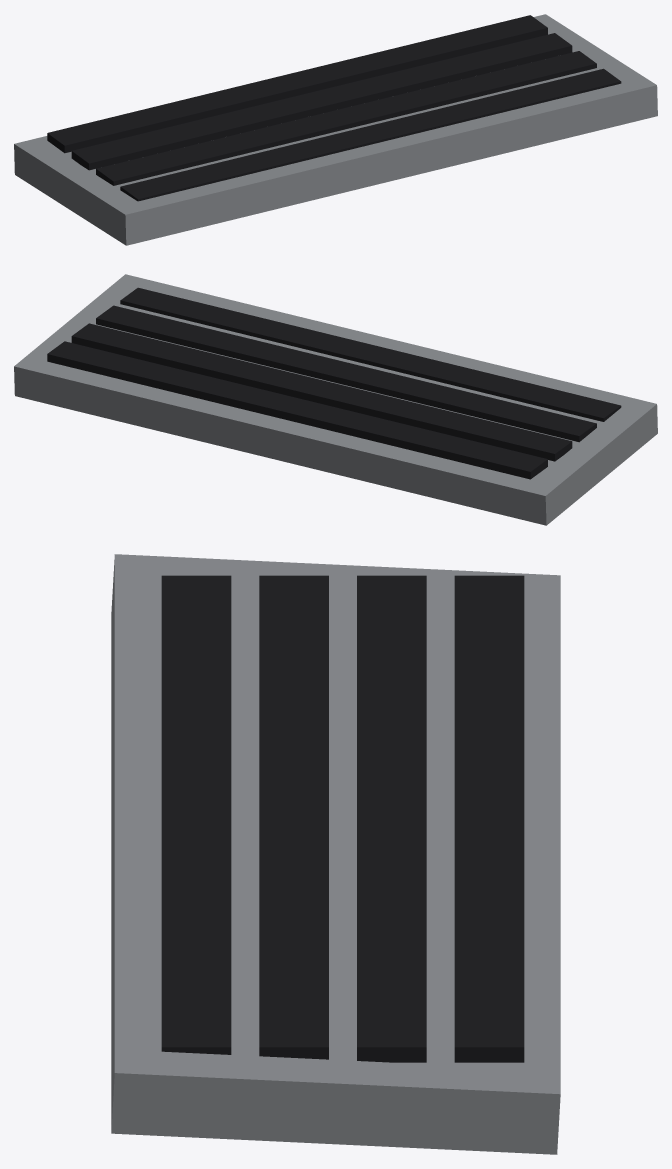
The model's file is GD_Keyboard_01.glb.
The picture shows the model from 3 angles, top to bottom: view 1: azimuth 30°, elevation 25°; view 2: azimuth 150°, elevation 25°; view 3: azimuth 270°, elevation 25°; orthographic projection. The views are drawn at different scales.
Parts seen in each view (by area): view 1: GD_Keyboard_01; view 2: GD_Keyboard_01; view 3: GD_Keyboard_01.
Part boxes in pixels (left/top/right/bottom): GD_Keyboard_01: left=14, top=14, right=657, bottom=245; GD_Keyboard_01: left=14, top=274, right=657, bottom=525; GD_Keyboard_01: left=111, top=554, right=560, bottom=1154.
Size of the model in its own units: 0.44 by 0.0332 by 0.161.
1 material, 1 textured.
